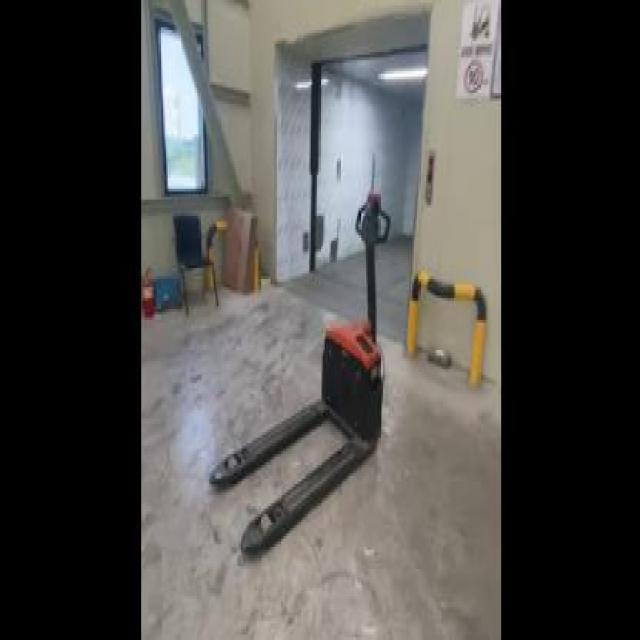robot: (206, 194, 392, 561)
